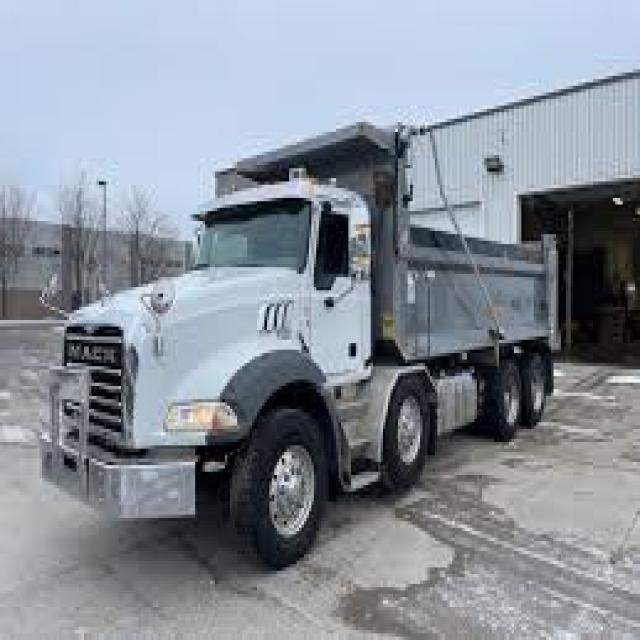dump_truck: (46, 118, 560, 569)
